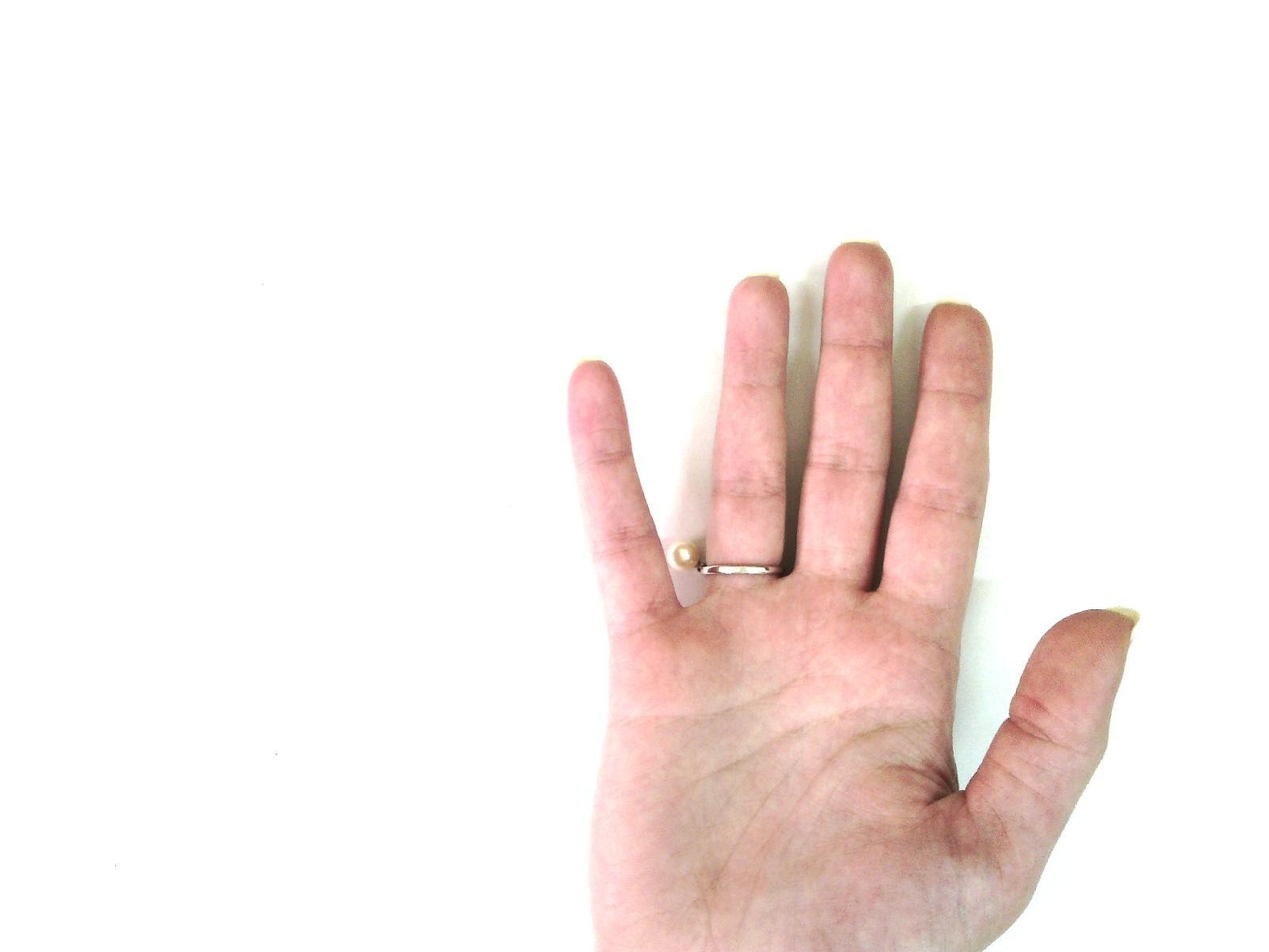open_palm: (562, 240, 1141, 951)
